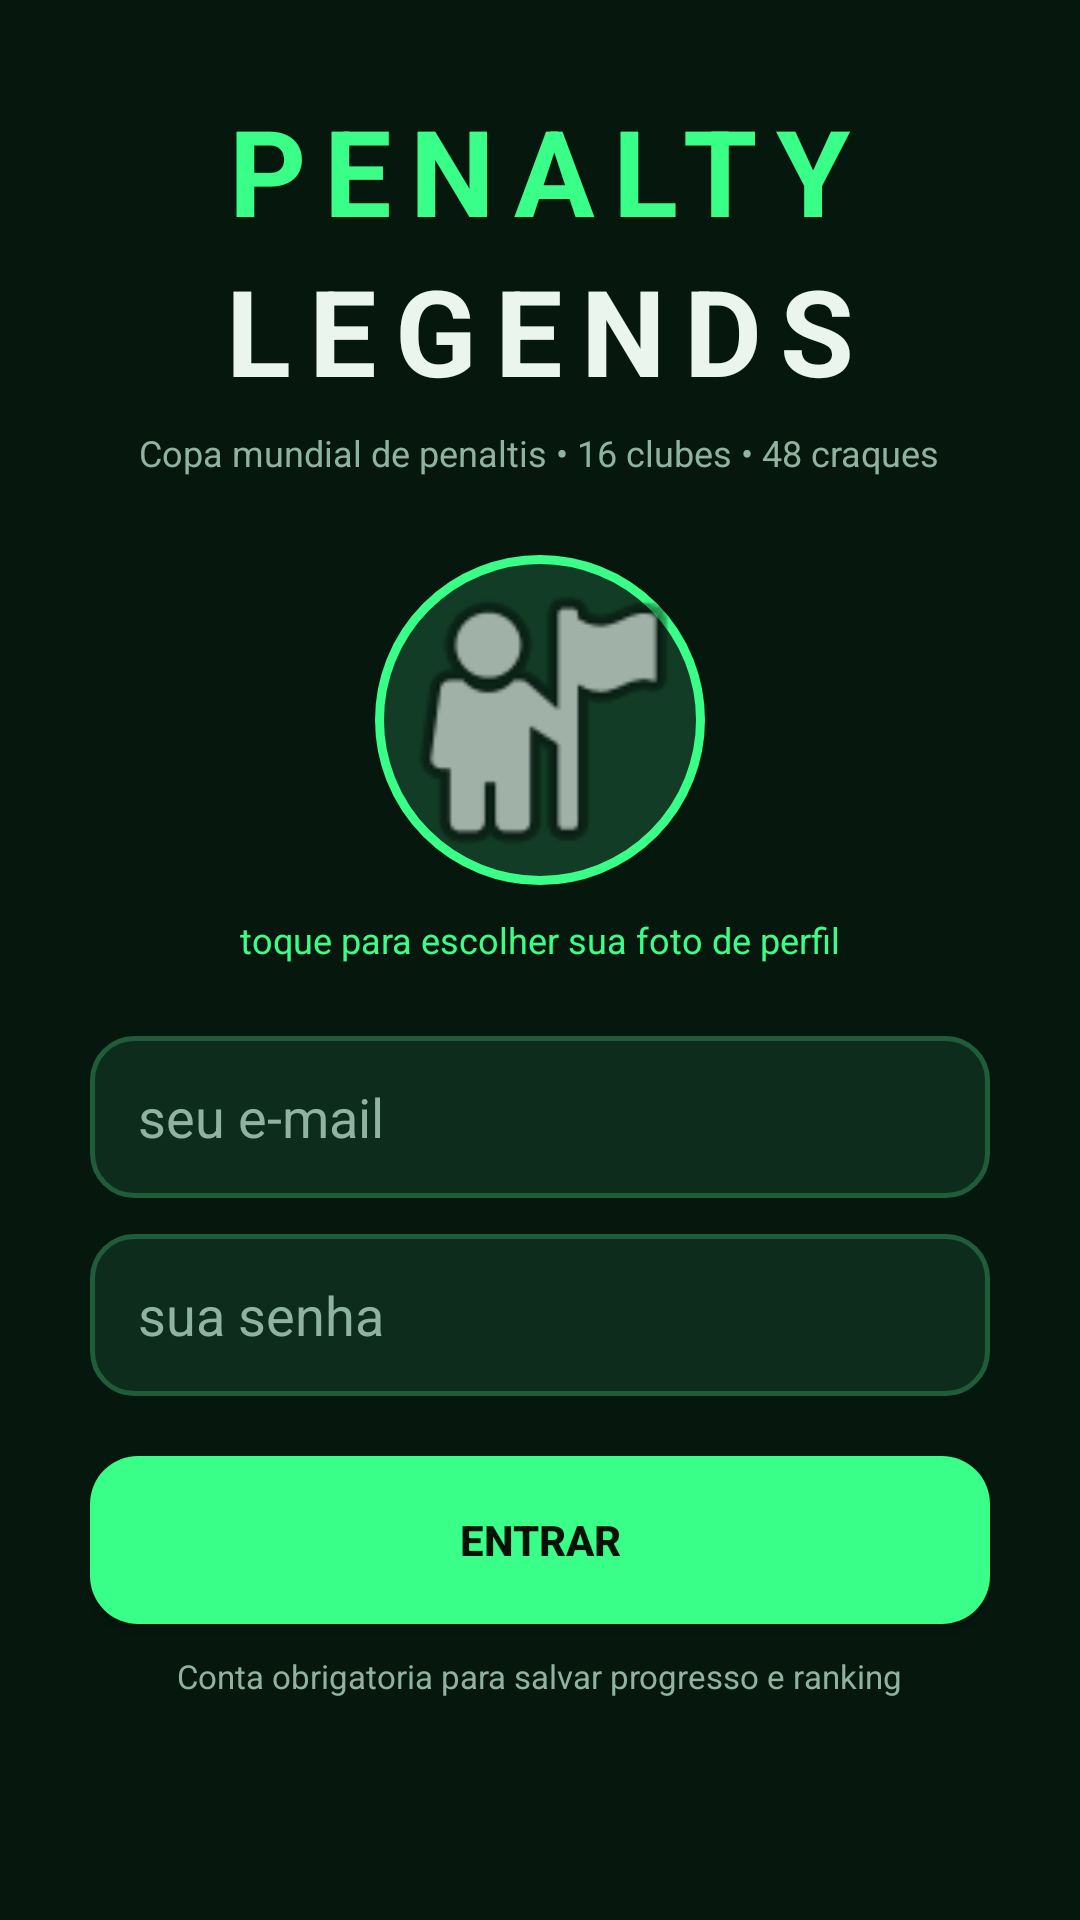

Locate icon controls on the screen. Image size 1080 × 1920, boxes as BBox(x1, y1, x2, y2).
myplaces: BBox(375, 555, 705, 885)
